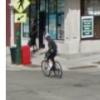bicycles: (40, 52, 64, 78)
